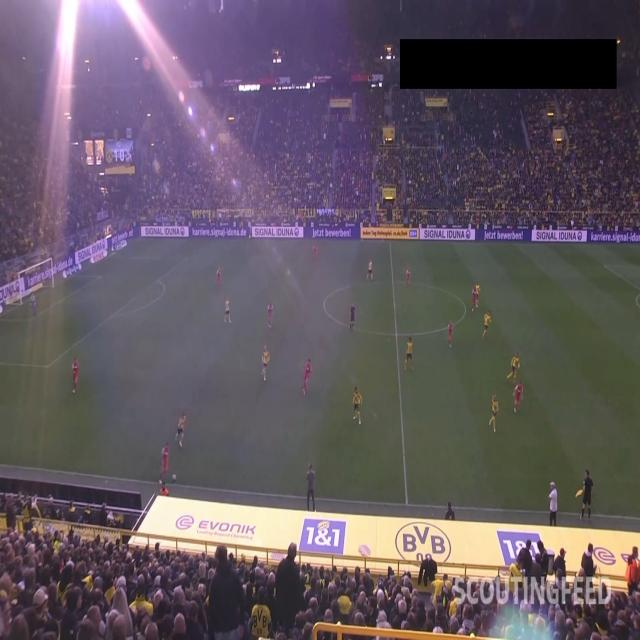f_player: (67, 355, 84, 406), (351, 382, 365, 433), (174, 408, 188, 454), (302, 355, 314, 403), (260, 342, 272, 389), (401, 335, 416, 372), (507, 345, 521, 383), (221, 294, 233, 336), (488, 392, 499, 436), (513, 376, 524, 420), (402, 263, 415, 300), (482, 311, 494, 342), (161, 443, 169, 487), (266, 296, 274, 333), (310, 240, 318, 272), (216, 263, 223, 294), (446, 323, 454, 348), (368, 258, 374, 286), (476, 282, 482, 305), (472, 285, 476, 312)
umpire: (576, 470, 595, 522), (348, 302, 357, 341)
